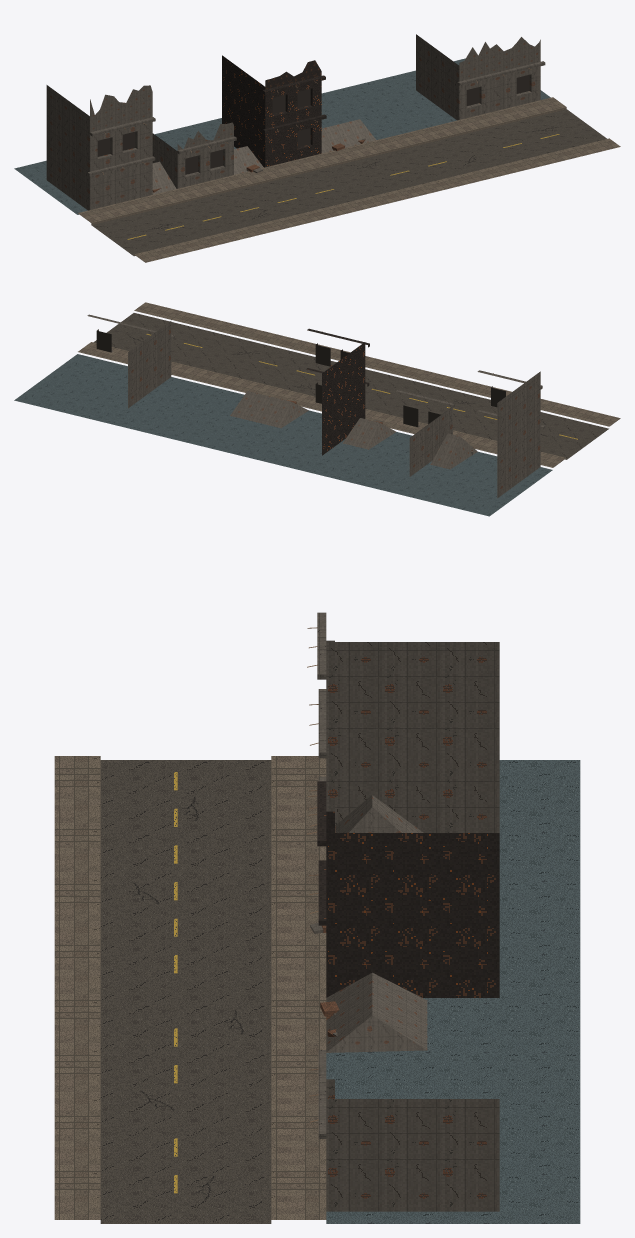
The model's file is shell.gltf.
3 renders of one model, top to bottom at view 1: azimuth 30°, elevation 25°; view 2: azimuth 150°, elevation 25°; view 3: azimuth 270°, elevation 25°, orthographic. The views are drawn at different scales.
Parts seen in each view (by area): view 1: shell; view 2: shell; view 3: shell.
Boxes of the visible parts, <box> form: shell: <box>14,34,620,262</box>; shell: <box>14,302,620,516</box>; shell: <box>54,612,580,1223</box>.
Size of the model in its own units: 38 by 8.7 by 18.2.
10 materials, 8 textured.
